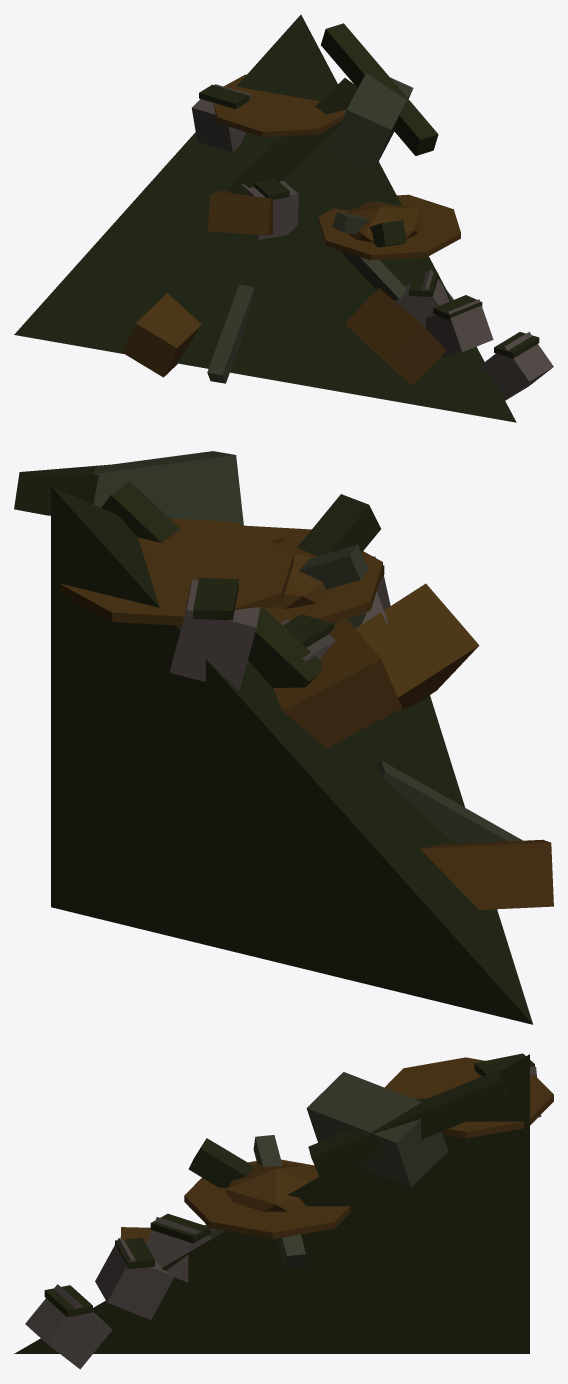
The model's file is SM_PilaZombi_RemateIzq_Altura2_s2_LOD0.fbx.
The picture shows the model from 3 angles, top to bottom: view 1: azimuth 30°, elevation 25°; view 2: azimuth 150°, elevation 25°; view 3: azimuth 270°, elevation 25°; orthographic projection. The views are drawn at different scales.
Visible parts, largest first — view 1: SM_pila_zombis_v11_LOD0; view 2: SM_pila_zombis_v11_LOD0; view 3: SM_pila_zombis_v11_LOD0.
Part boxes in pixels (x1=…): SM_pila_zombis_v11_LOD0: x1=14, y1=14, x2=553, y2=422; SM_pila_zombis_v11_LOD0: x1=14, y1=451, x2=553, y2=1024; SM_pila_zombis_v11_LOD0: x1=14, y1=1053, x2=553, y2=1369.
Size of the model in its own units: 1.94 by 1.37 by 2.2.
